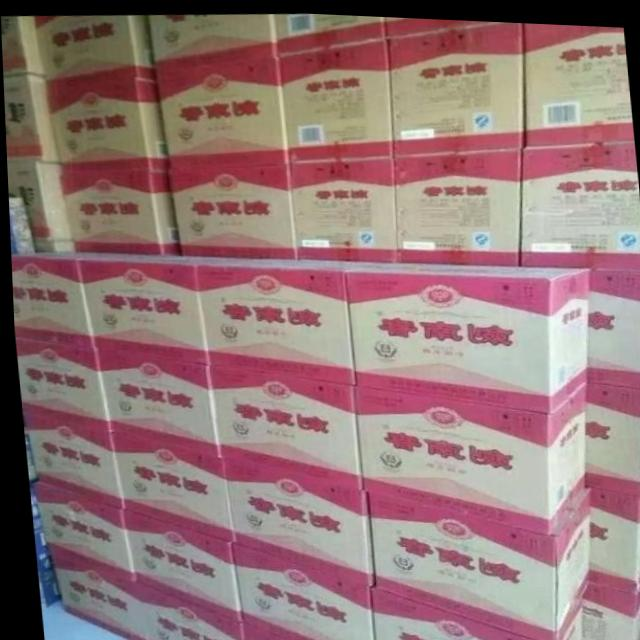box: (342, 258, 590, 410), (350, 377, 587, 530), (366, 482, 586, 639), (196, 257, 398, 383), (77, 253, 283, 363), (219, 454, 368, 582), (207, 363, 361, 486), (386, 18, 524, 152), (519, 135, 640, 264), (392, 141, 522, 260), (280, 34, 394, 162), (158, 55, 288, 167), (226, 540, 369, 640), (107, 427, 229, 540), (522, 18, 634, 141), (9, 250, 148, 348), (92, 348, 218, 453), (119, 509, 235, 620), (167, 162, 297, 257), (367, 583, 578, 640), (289, 152, 398, 259), (46, 76, 166, 172), (59, 168, 179, 255), (27, 482, 129, 582), (20, 412, 119, 510), (41, 550, 143, 640), (14, 337, 107, 427), (33, 15, 157, 81), (148, 12, 275, 69), (584, 262, 640, 383), (583, 378, 640, 492), (584, 482, 640, 586), (6, 160, 72, 241), (3, 72, 60, 164), (142, 587, 238, 640), (273, 11, 385, 56), (575, 571, 640, 640), (385, 13, 513, 35), (1, 16, 46, 78), (236, 619, 292, 640), (32, 242, 72, 252)
